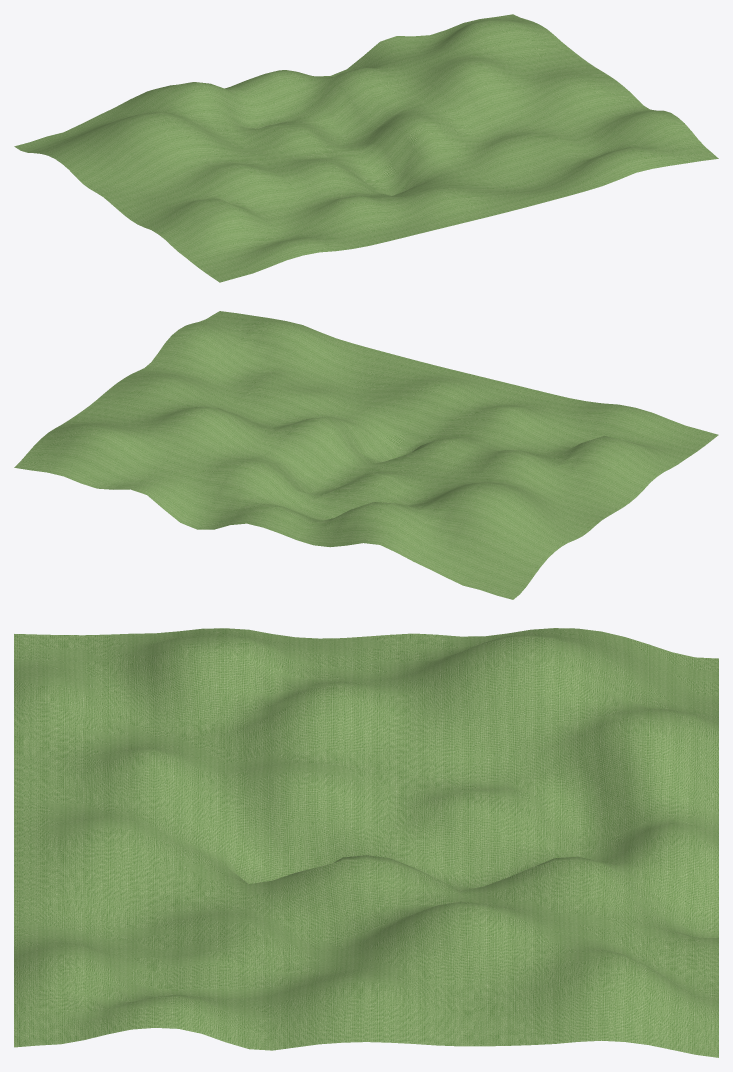
File: bg_ground.FBX
3 views of the same model, one above another, from view 1: azimuth 30°, elevation 25°; view 2: azimuth 150°, elevation 25°; view 3: azimuth 270°, elevation 25° (orthographic). The views are drawn at different scales.
Visible parts, largest first — view 1: bg_ground; view 2: bg_ground; view 3: bg_ground.
Part boxes in pixels (<box>): bg_ground: <box>14,14,718,282</box>; bg_ground: <box>14,311,718,599</box>; bg_ground: <box>14,628,718,1057</box>.
Bounding box in the file's own units: 79485 × 9578 × 56762.
Materials: 1 (1 with a texture image).
